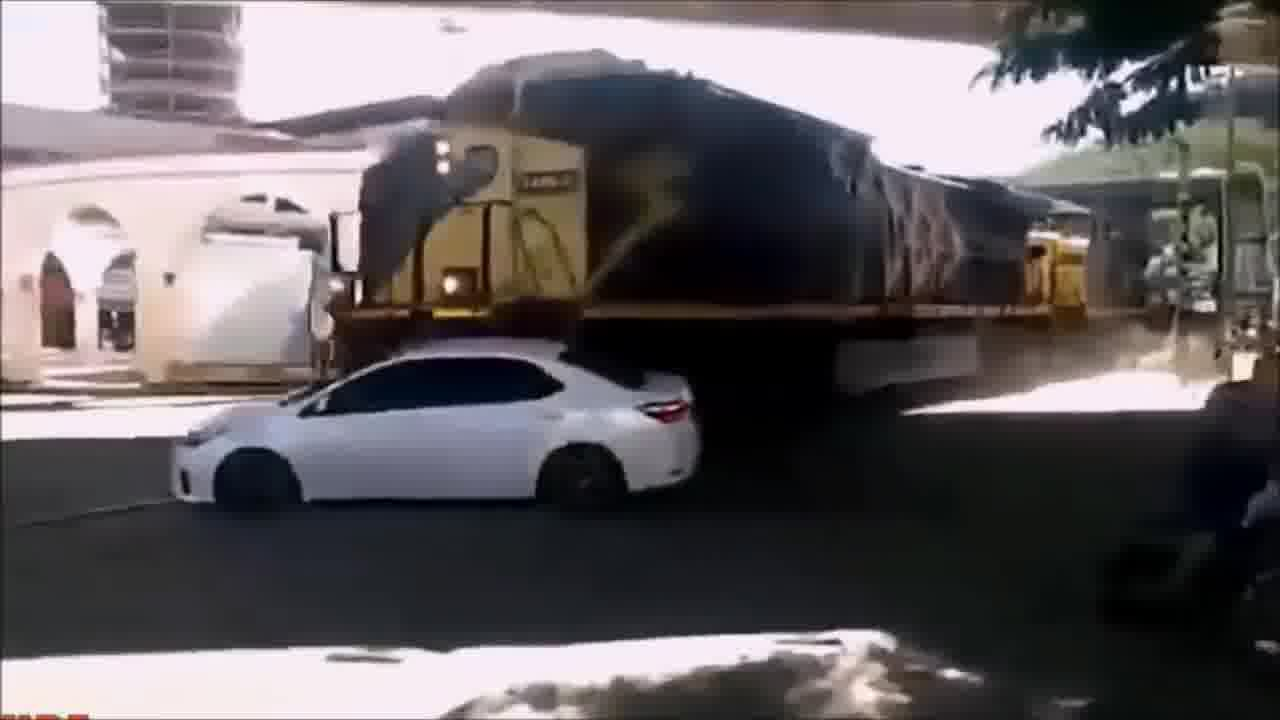crossing railway track: (111, 235, 770, 550)
